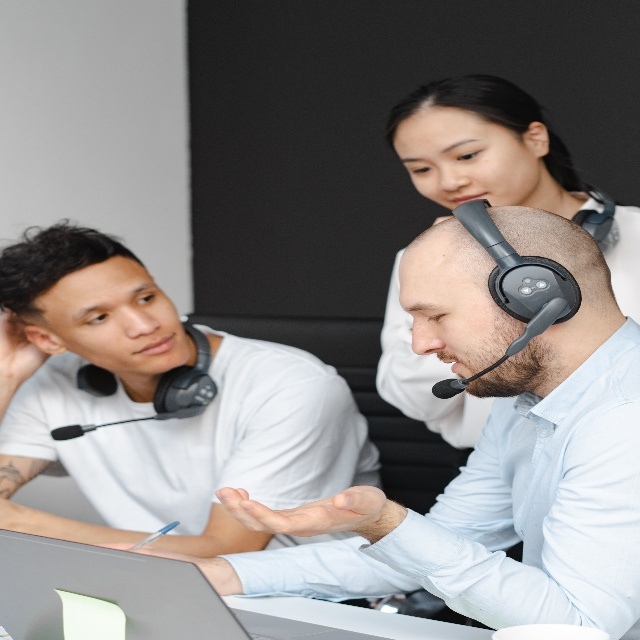Sin_guantes: (215, 483, 387, 538)
